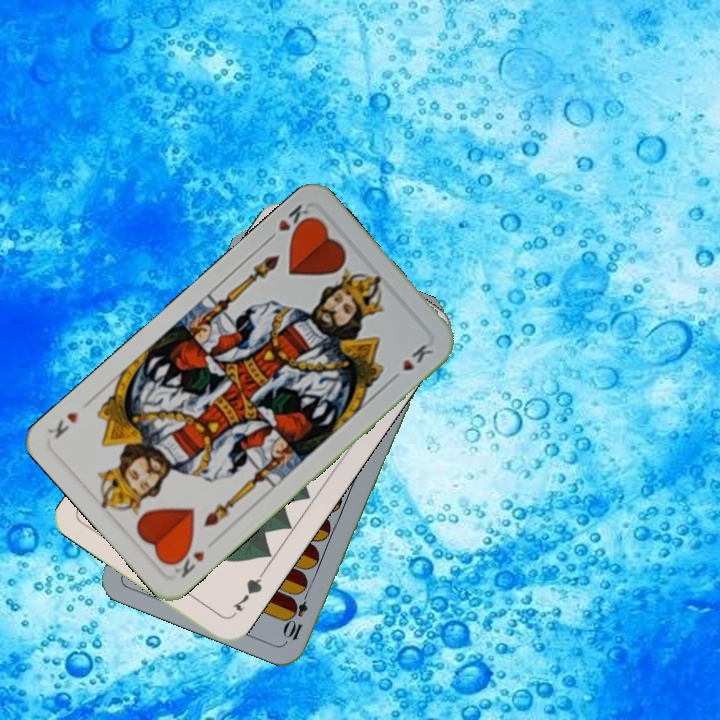E10: (281, 585, 312, 643)
G7: (228, 568, 266, 614)
HK: (262, 200, 316, 245), (176, 547, 208, 581)
